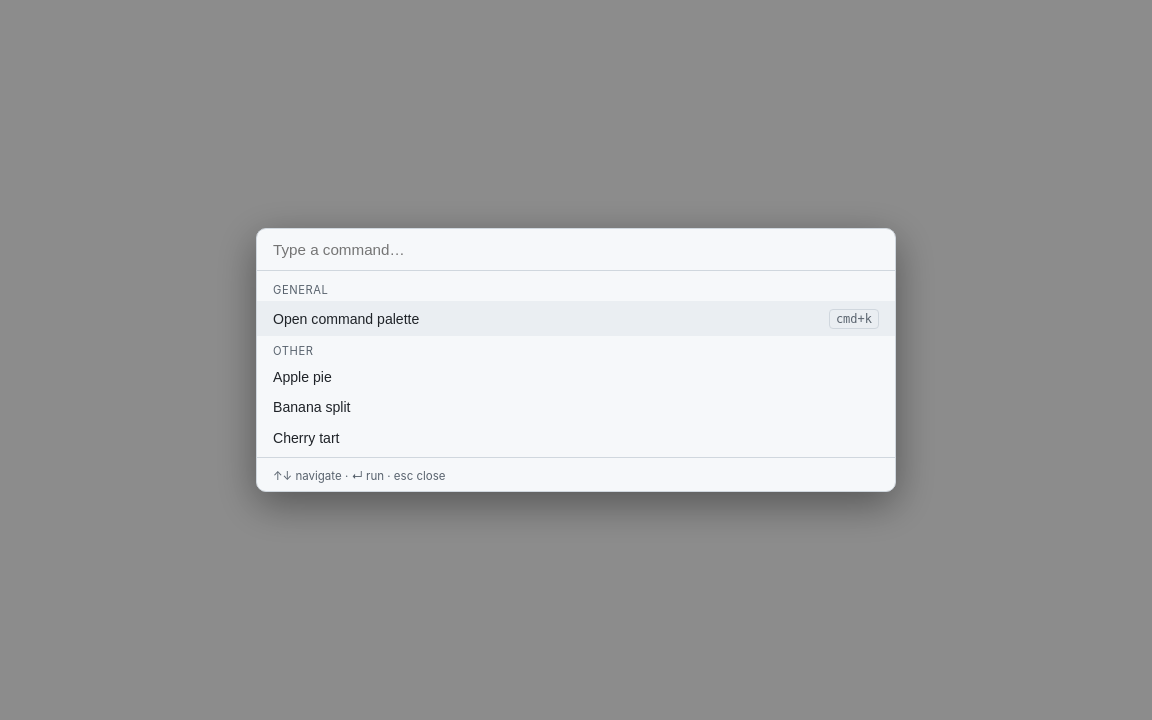
Scenario: CommandPalette › filters items by substring (fuzzy)
In the field named "Search commands": x=576, y=250 x1=257 y1=229 x2=895 y2=271, type "banan"
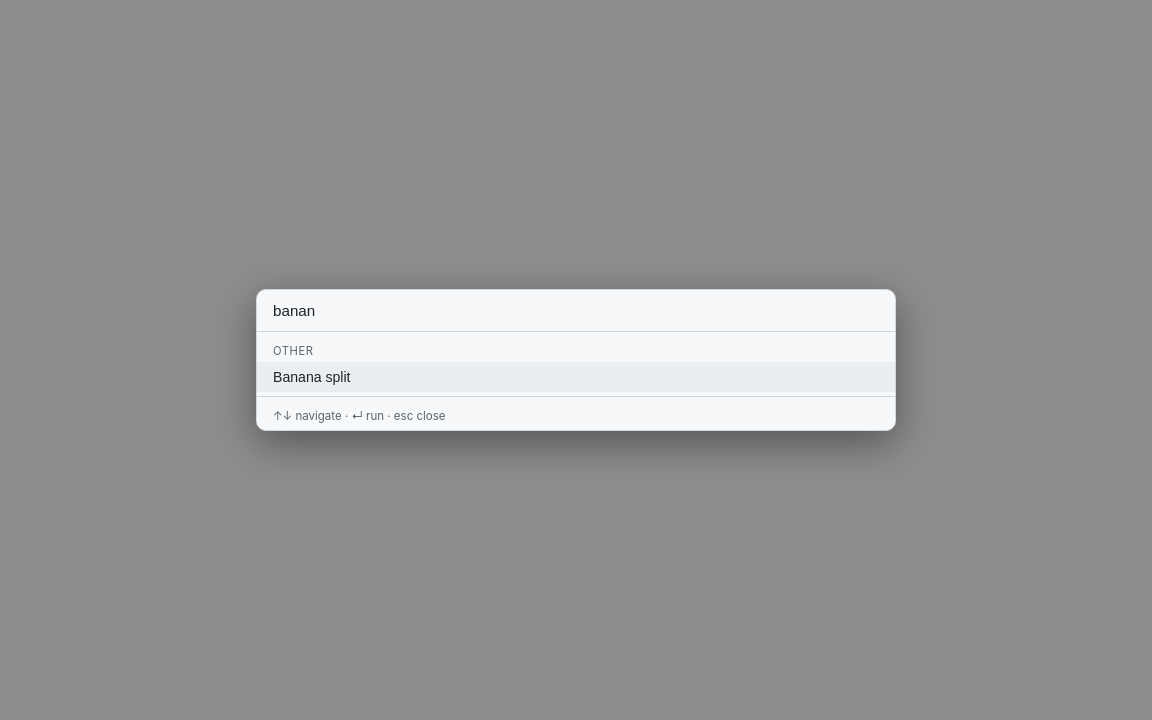
Expected: the text "Banana split" is shown, x1=273 y1=369 x2=350 y2=385
Expected: the option "Apple pie" is gone
Expected: the option "Cherry tart" is gone
